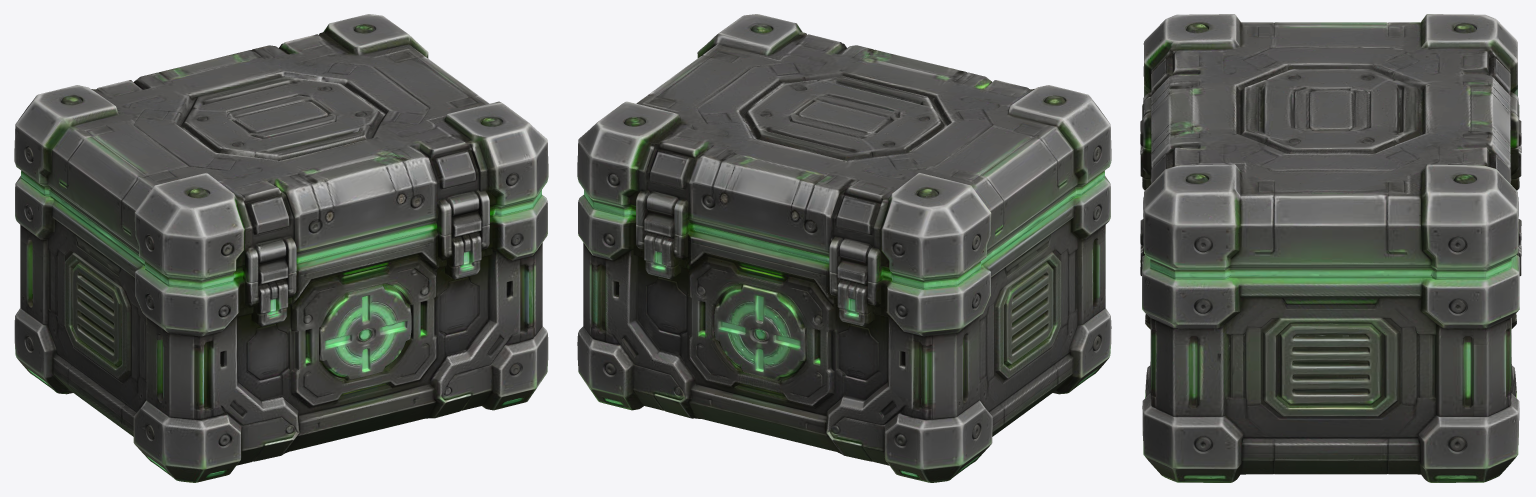
File: storage-crate.glb
3 renders of one model, left to right at view 1: azimuth 30°, elevation 25°; view 2: azimuth 150°, elevation 25°; view 3: azimuth 270°, elevation 25°, orthographic. The views are drawn at different scales.
Parts seen in each view (by area): view 1: material; view 2: material; view 3: material.
Part boxes in pixels (bbox=[...]): material: bbox=[14, 14, 548, 482]; material: bbox=[577, 14, 1111, 482]; material: bbox=[1140, 14, 1521, 482].
Bounding box in the file's own units: 0.9016 × 0.6215 × 0.7332.
1 material, 1 textured.
